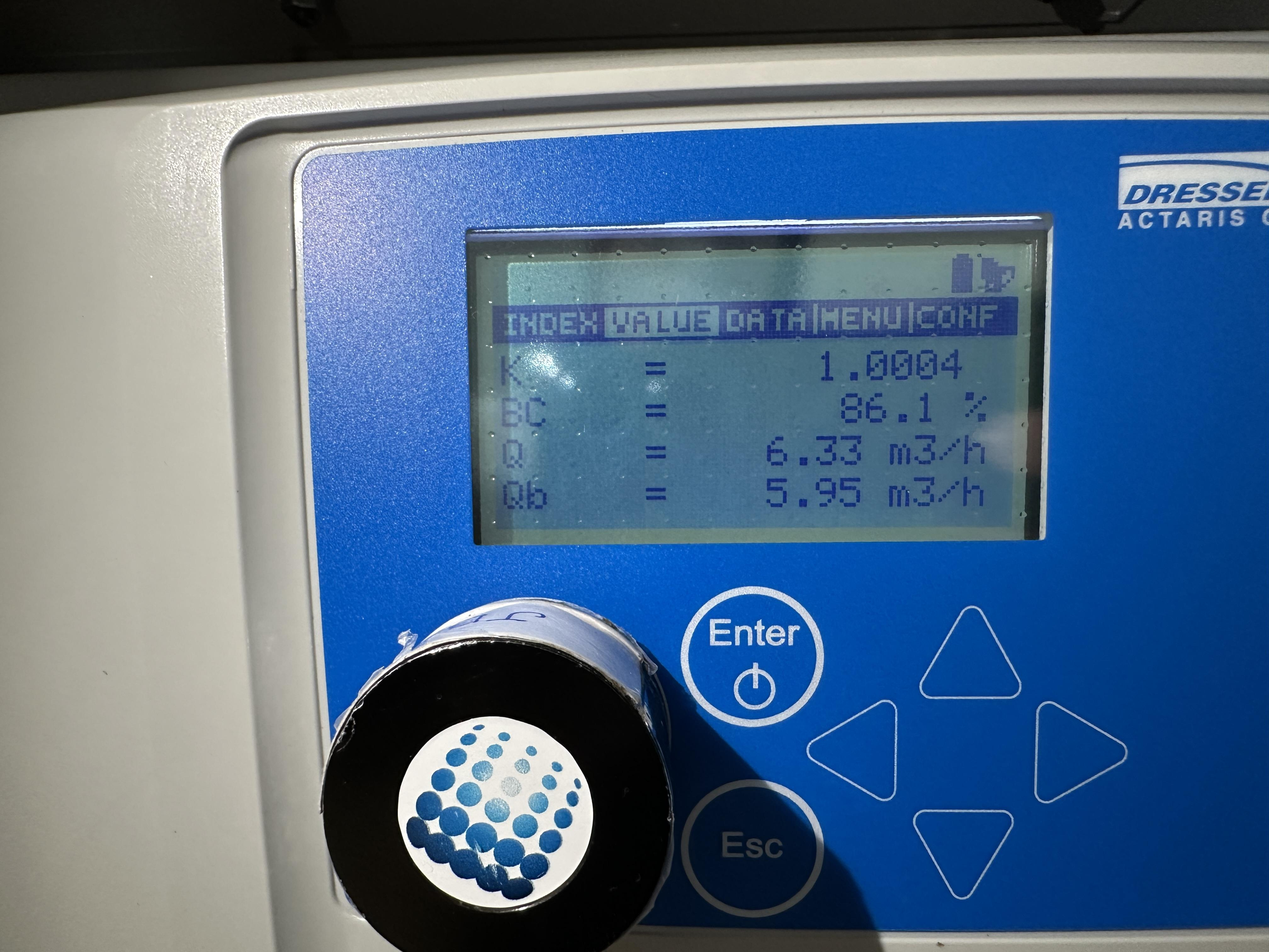digital_screen: (480, 245, 1034, 544)
